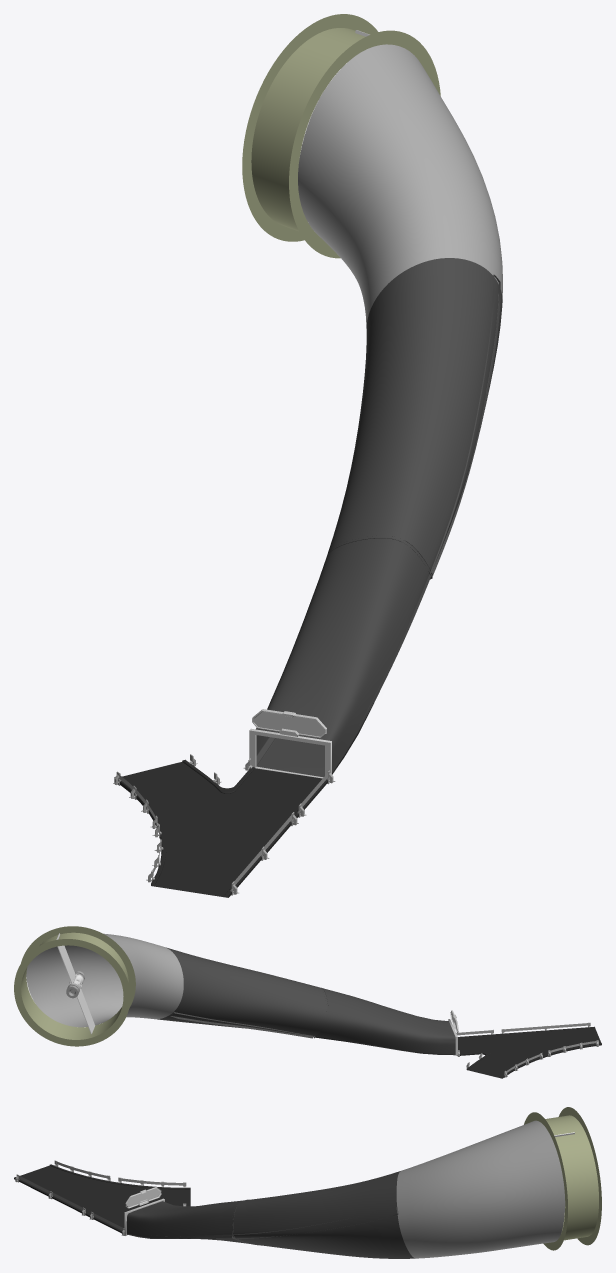
The model's file is Tunnel.fbx.
3 views of the same model, one above another, from view 1: azimuth 30°, elevation 25°; view 2: azimuth 150°, elevation 25°; view 3: azimuth 270°, elevation 25° (orthographic). The views are drawn at different scales.
Visible parts, largest first — view 1: laserTunnel_ramp2, LaserTunnel_ramp3, LaserTunnel_ramp1, road, LaserTunnel_ground; view 2: LaserTunnel_ramp3, laserTunnel_ramp2, LaserTunnel_ramp1, LaserTunnel_ground, road, LaserTunnel_main, group4_polySurface1; view 3: LaserTunnel_ramp3, laserTunnel_ramp2, LaserTunnel_ground, road, LaserTunnel_ramp1, Screen, polySurface173, group4_polySurface1.
Part boxes in pixels (box(x1,y1,x2,y2)): laserTunnel_ramp2: box(327, 258, 502, 579); LaserTunnel_ramp3: box(298, 44, 502, 328); LaserTunnel_ramp1: box(256, 537, 431, 777); road: box(114, 759, 327, 897); LaserTunnel_ground: box(242, 14, 440, 258); LaserTunnel_ramp3: box(26, 933, 183, 1027); laserTunnel_ramp2: box(157, 947, 328, 1038); LaserTunnel_ramp1: box(314, 988, 455, 1055); LaserTunnel_ground: box(14, 926, 135, 1046); road: box(457, 1026, 601, 1078); LaserTunnel_main: box(56, 933, 95, 1034); group4_polySurface1: box(456, 1023, 587, 1035); LaserTunnel_ramp3: box(396, 1120, 565, 1258); laserTunnel_ramp2: box(232, 1171, 415, 1258); LaserTunnel_ground: box(524, 1107, 601, 1250); road: box(14, 1164, 190, 1235); LaserTunnel_ramp1: box(126, 1200, 249, 1243); Screen: box(125, 1187, 161, 1208); polySurface173: box(57, 1161, 182, 1185); group4_polySurface1: box(19, 1175, 123, 1230).
Size of the model in its own units: 19268 by 9898 by 22831.
